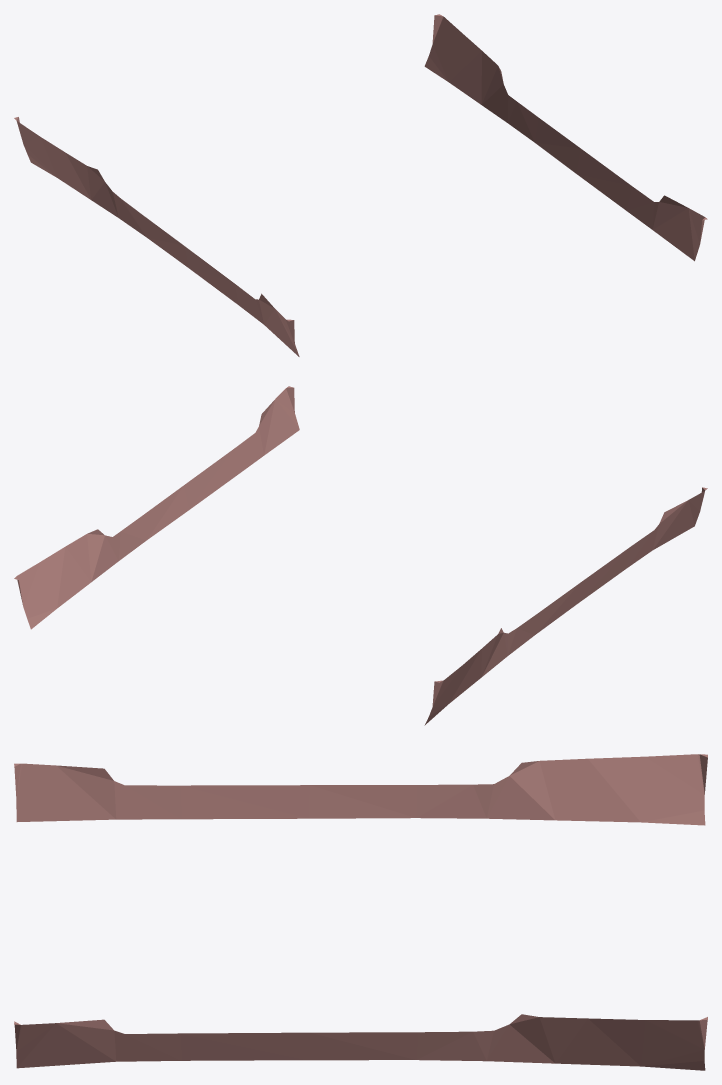
The model's file is R34_Skirt02_Trim.fbx.
The picture shows the model from 3 angles, top to bottom: view 1: azimuth 30°, elevation 25°; view 2: azimuth 150°, elevation 25°; view 3: azimuth 270°, elevation 25°; orthographic projection. The views are drawn at different scales.
Parts seen in each view (by area): view 1: R34_Skirt02_Trim; view 2: R34_Skirt02_Trim; view 3: R34_Skirt02_Trim.
Part boxes in pixels (x1,y1,x2,y2): R34_Skirt02_Trim: (14,14,707,356); R34_Skirt02_Trim: (14,386,707,725); R34_Skirt02_Trim: (14,754,707,1070).
Size of the model in its own units: 175 by 18.68 by 193.
